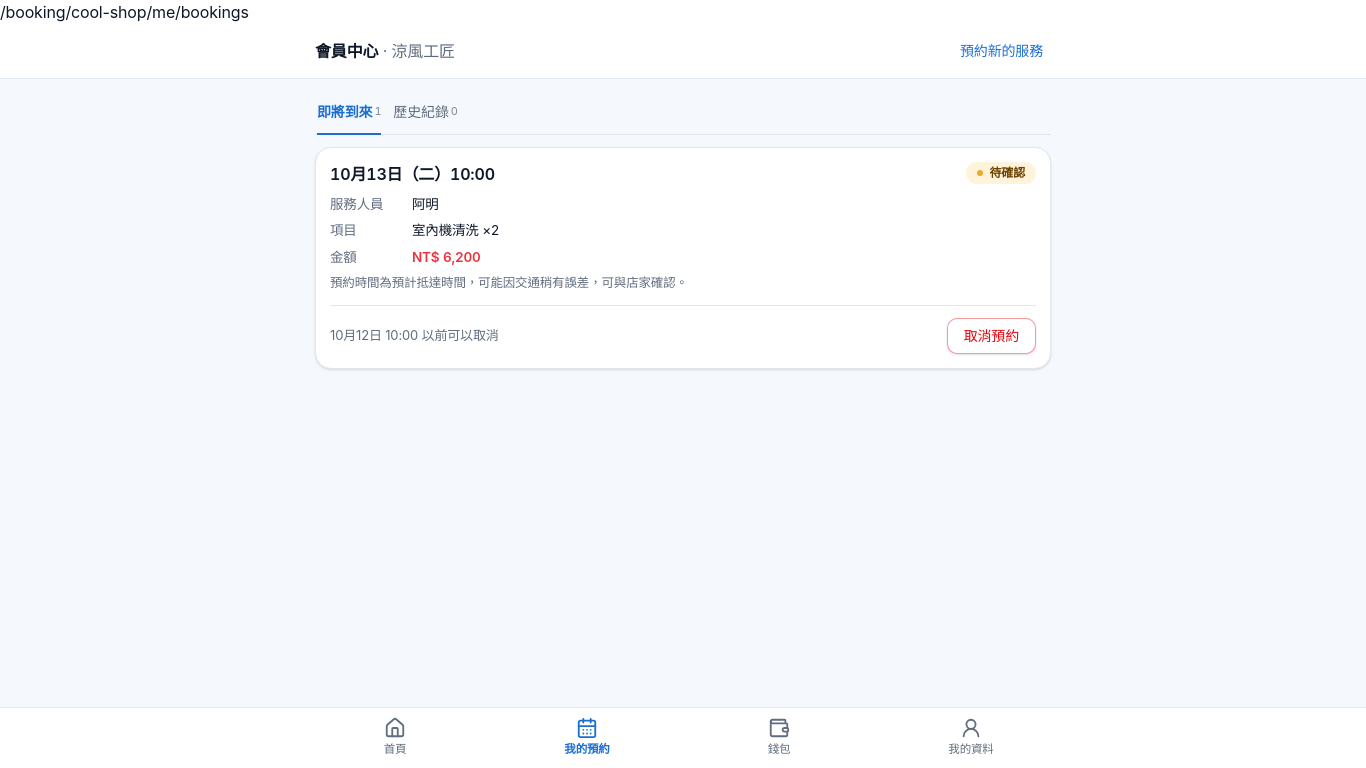
Test case: C4-C04 / D06 我的預約與取消 › 可以取消 ⇒ 期限文字 + 取消預約;確認窗逐字;成功 ⇒ toast + 重讀
Expected: the text with test id "member-booking-deadline" reads "10月12日 10:00 以前可以取消", [330,327,499,343]
Expected: the tab with test id "member-bookings-tab-upcoming" reads "即將到來 1", [317,91,381,135]
Click the button with test id "member-booking-cancel": (991, 336) [947,318,1036,354]
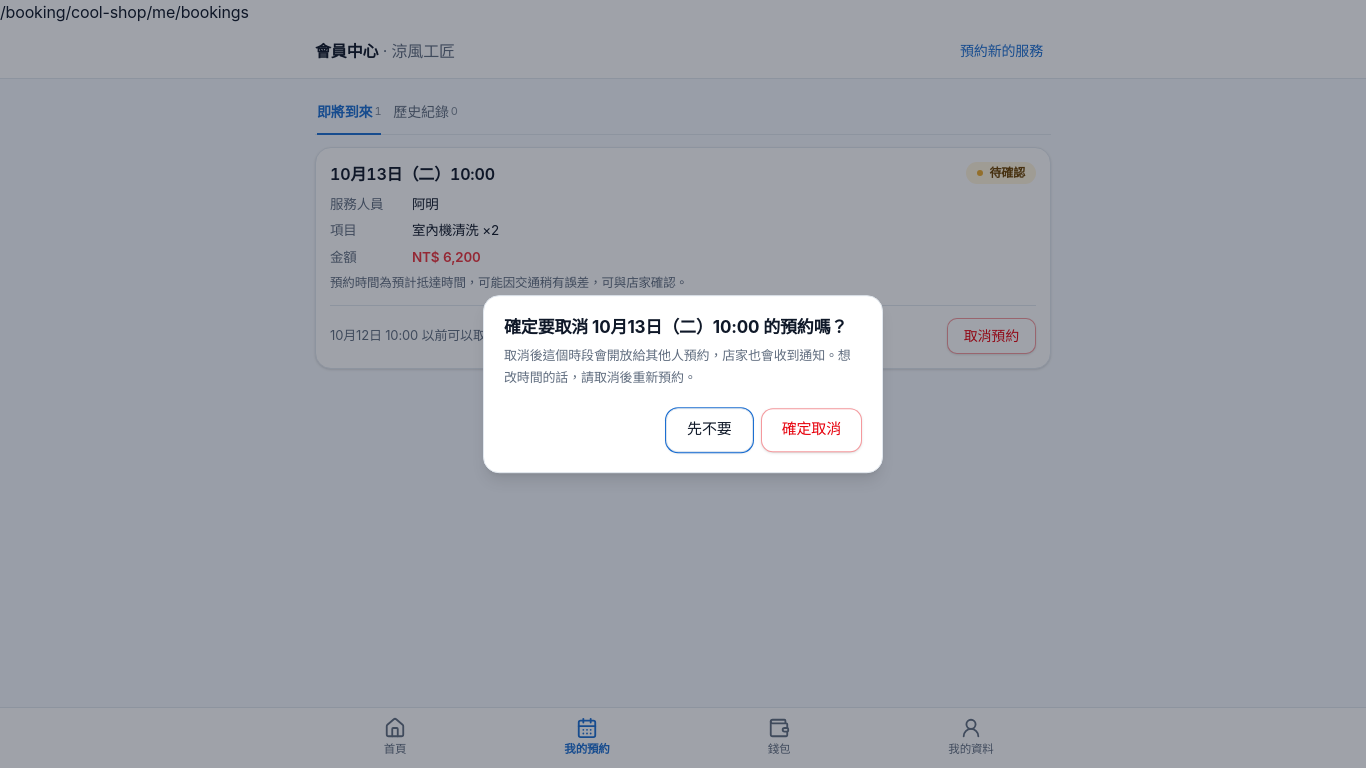
Now the dialog with test id "member-cancel-dialog" shows "確定要取消 10月13日（二）10:00 的預約嗎？", box [504,317,847,337]
Now the dialog with test id "member-cancel-dialog" shows "取消後這個時段會開放給其他人預約，店家也會收到通知。想改時間的話，請取消後重新預約。", box [504,348,851,385]
Now the button with test id "member-cancel-keep" reads "先不要", box [666,408,753,452]
Click the button with test id "member-cancel-confirm": (811, 430) [761,408,862,452]
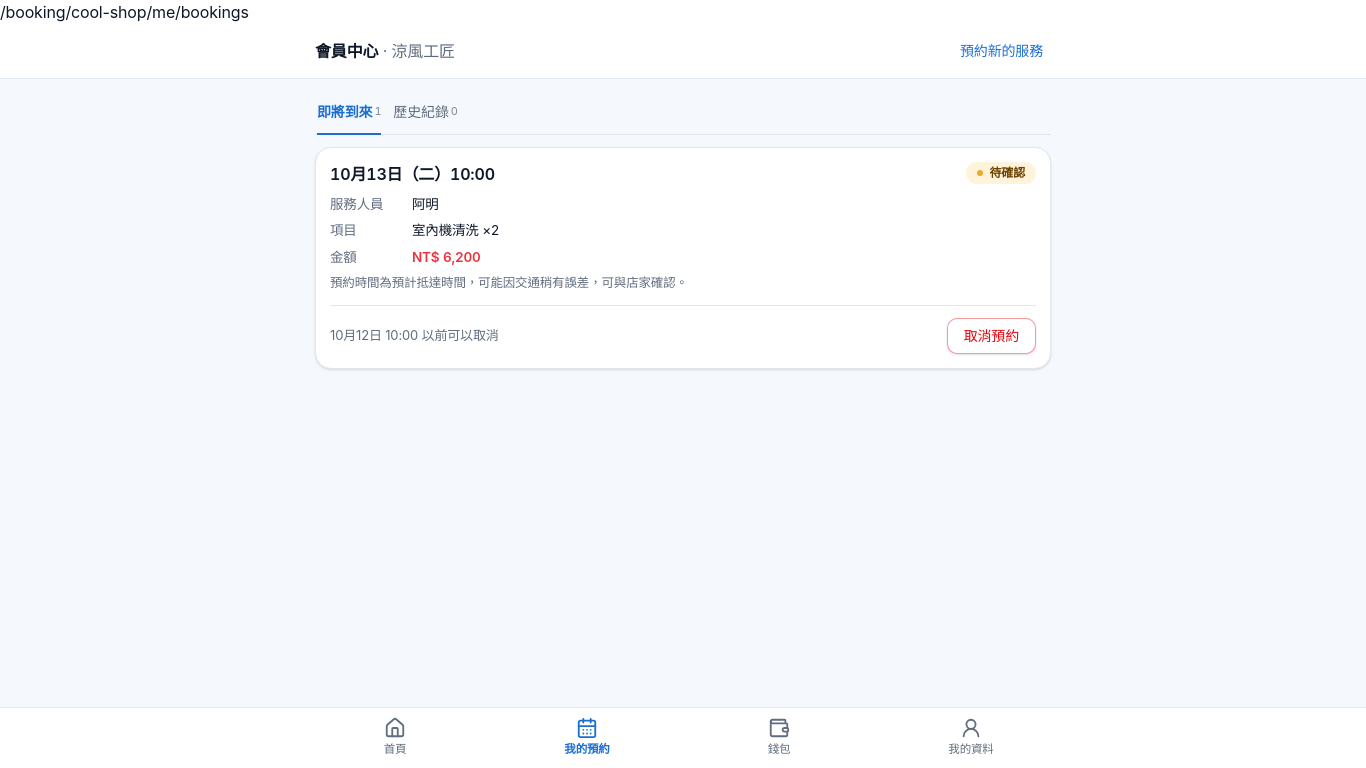
Now the dialog with test id "member-cancel-dialog" is gone
